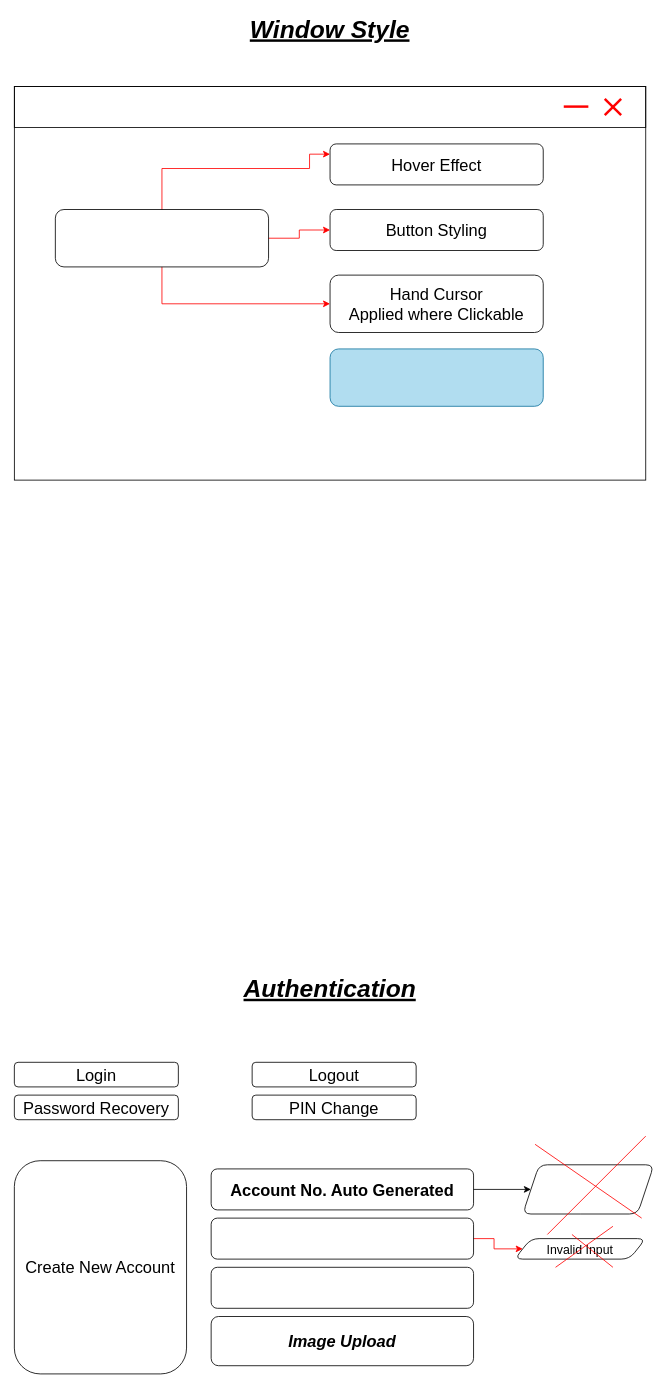
The diagram is 668 pixels wide and 1388 high, and some of its shapes have lost their labels. The shapes that lost their labels are listed below. From the top down, each one's centre as x and y in pixels, then its label:
[162,238]: Micro Interactions
[436,377]: User Interactive Icons
[588,1189]: Duplicate Account
[342,1238]: Input Validation
[342,1287]: Date Picker
